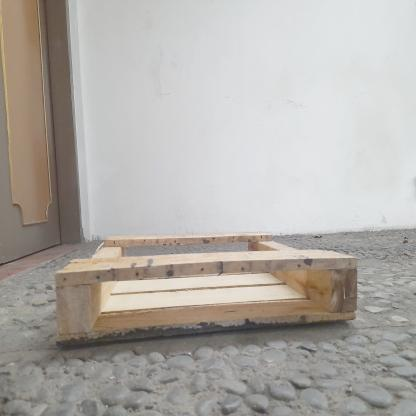Wooden-Pallet: (52, 227, 366, 355)
